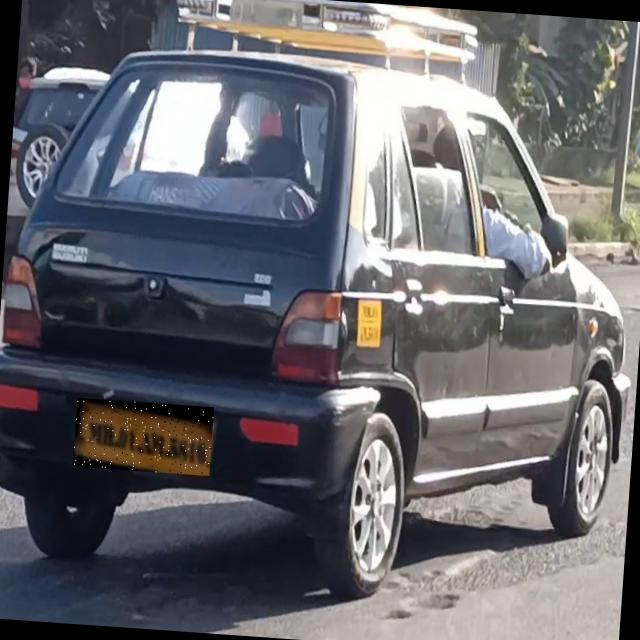Plate: (74, 399, 215, 477)
